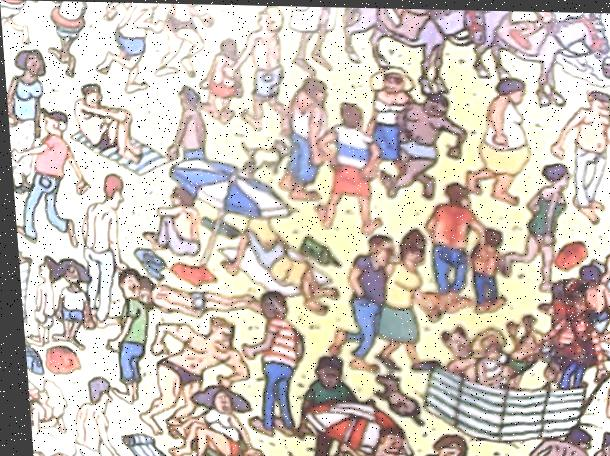waldo: (559, 277, 594, 322)
